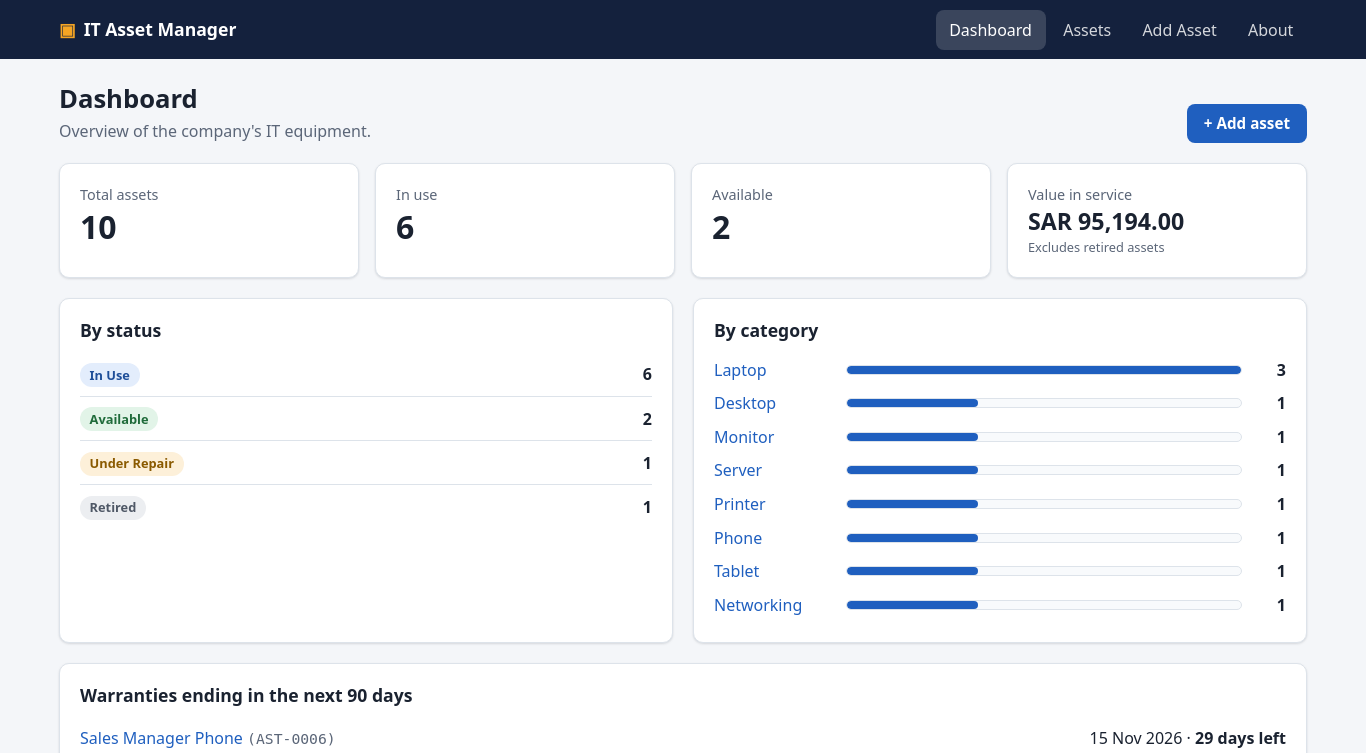
Test case: menu and navigation › opens each page from the menu and highlights the current item
expect the heading "Dashboard" is shown: met, box [59,81,198,116]
Click the link "Assets" at (1087, 30), box [1063,19,1111,41]
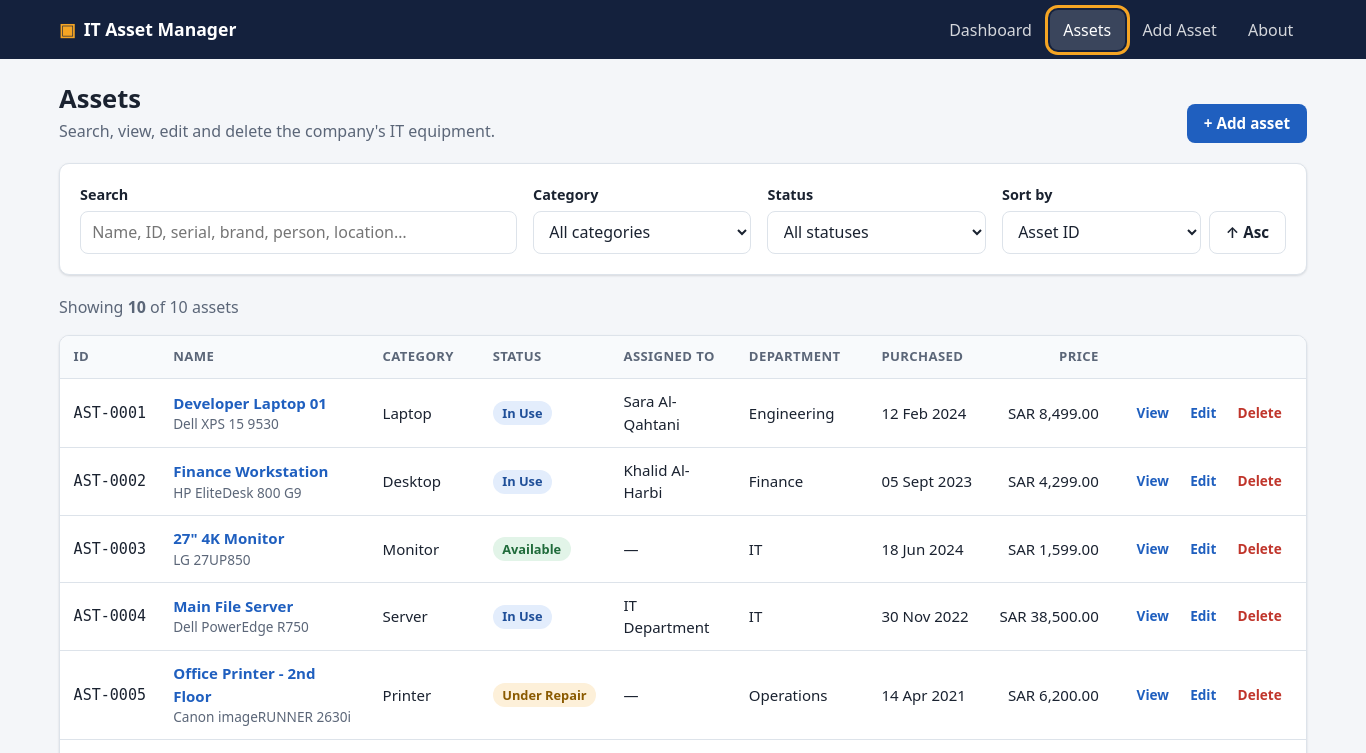
expect the heading "Assets" is shown: met, box [59,81,141,116]
Click the link "Add Asset" at (1180, 30), box [1142,19,1217,41]
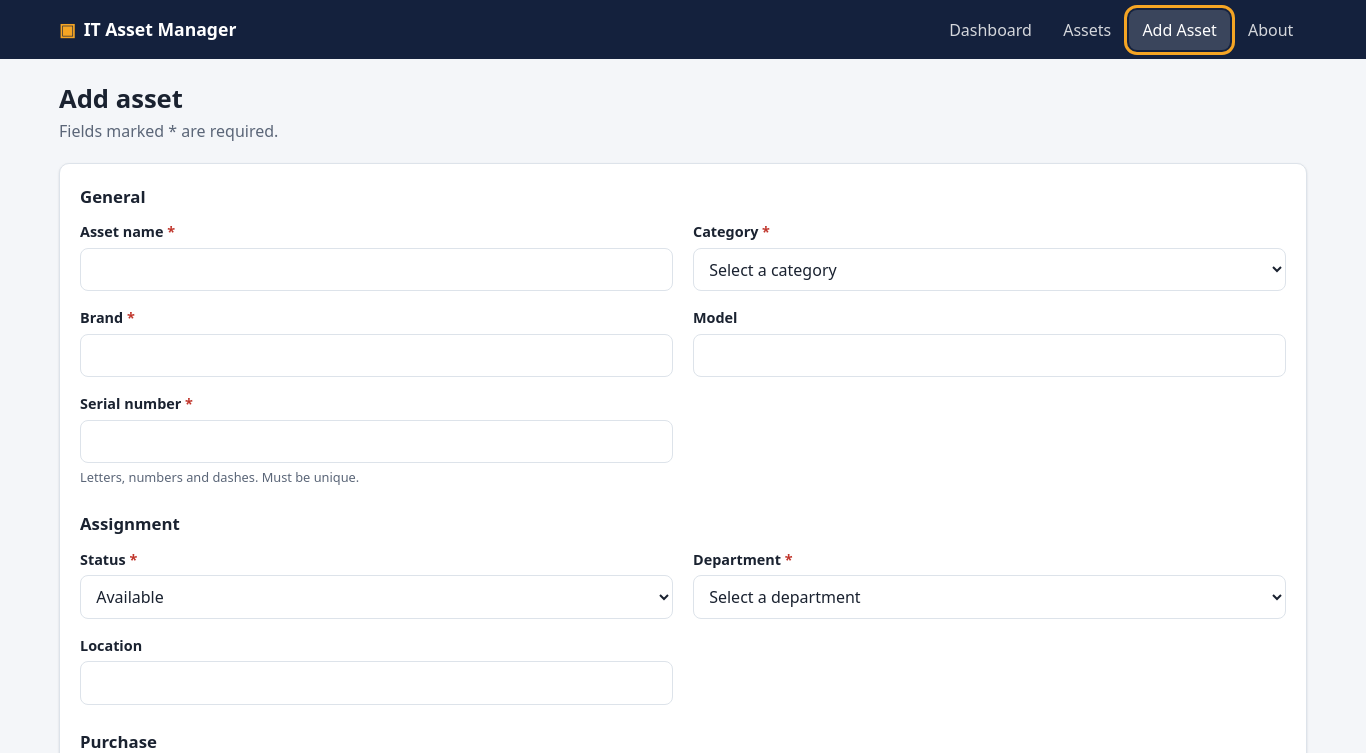
expect the heading "Add asset" is shown: met, box [59,81,183,116]
Click the link "About" at (1271, 30), box [1248,19,1293,41]
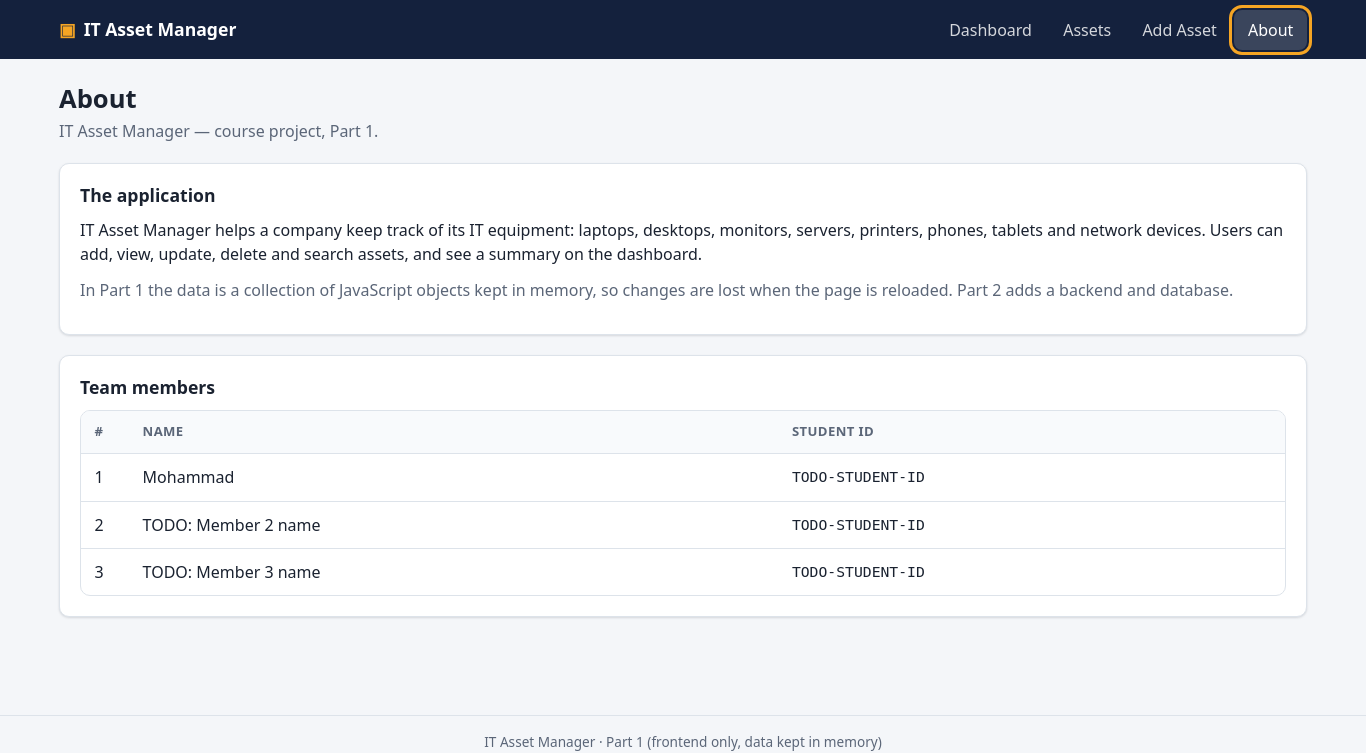
expect the heading "About" is shown: met, box [59,81,137,116]
